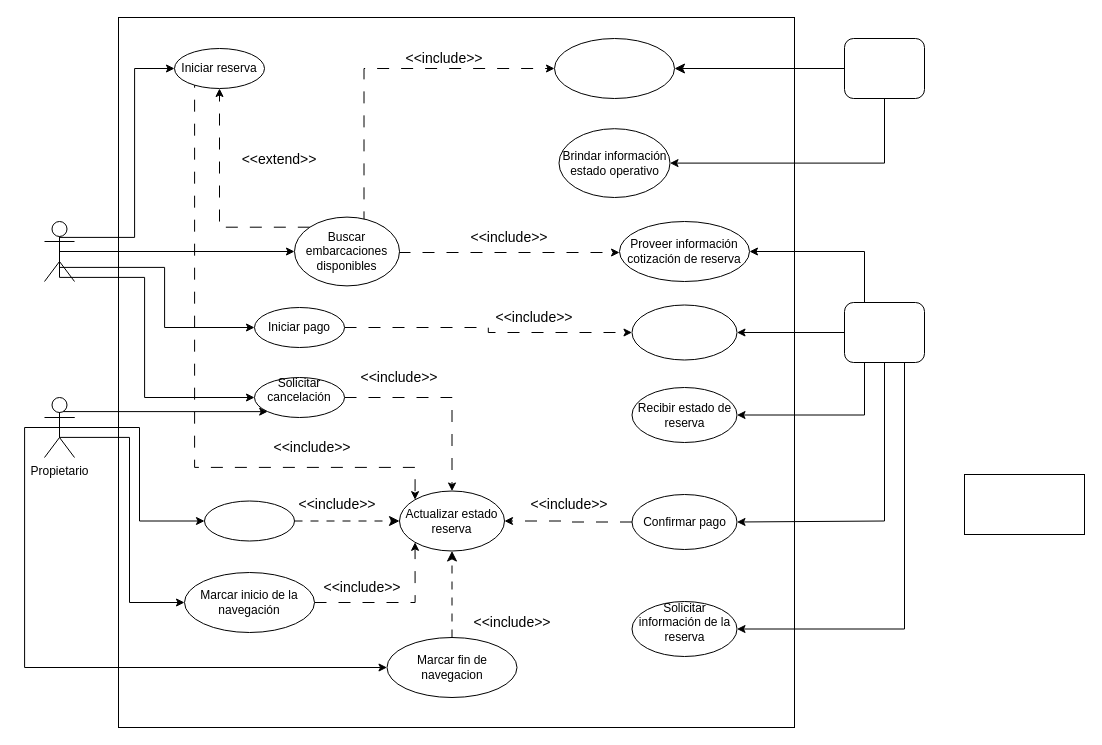
This 1102x745 diagram has some shape labels left out. The centre of each missing label's shape, as x and y in pixels:
Arrendatario: (59,251)
Brindar calculo total de la reserva: (684,332)
hola!!!!!!!!: (1024,504)
Marcar inasistencia: (249,520)
Modulo 1 (Gestión de embarcación): (884,68)
Módulo 3 (Gestión Liquidación): (884,332)
Proveer información de embarcación: (614,68)
